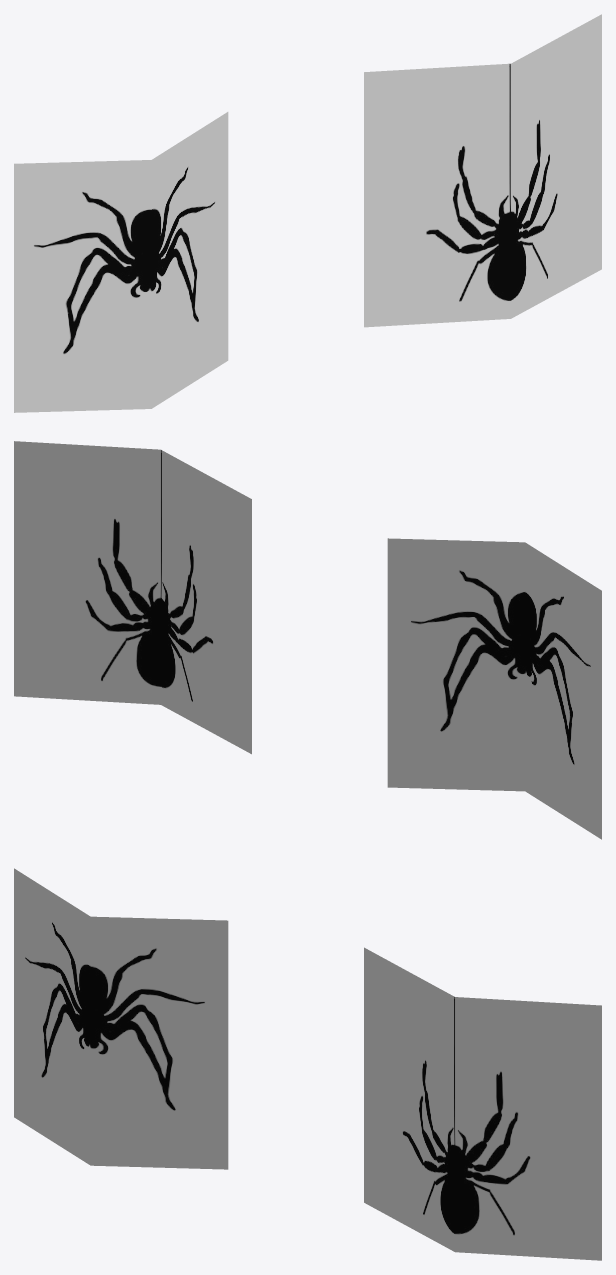
The model's file is spider.fbx.
3 views of the same model, one above another, from view 1: azimuth 30°, elevation 25°; view 2: azimuth 150°, elevation 25°; view 3: azimuth 330°, elevation 25° (orthographic).
Visible parts, largest first — view 1: spider; view 2: spider; view 3: spider.
Part boxes in pixels (<box>): spider: <box>14,14,601,412</box>; spider: <box>14,441,601,839</box>; spider: <box>14,868,601,1260</box>.
Size of the model in its own units: 6849 by 2841 by 614.
Materials: 2 (2 with a texture image).
